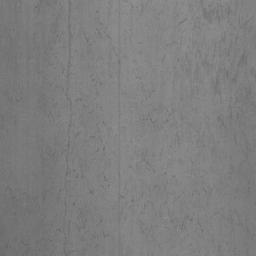Silk spot: (2, 0, 204, 256), (160, 0, 256, 174), (131, 69, 184, 130), (129, 133, 182, 173), (205, 208, 255, 240), (191, 160, 212, 206), (0, 115, 16, 138), (5, 91, 24, 102)
